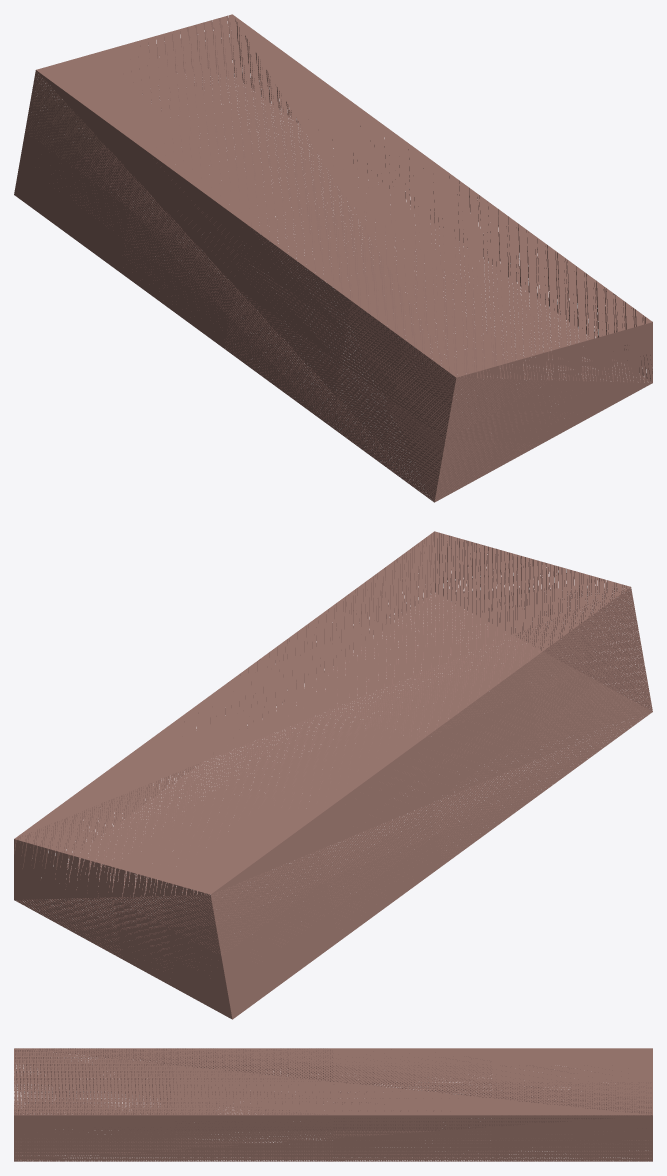
The model's file is SW_ENV_EL_TrackBase_Walkway_Side_5m_Collision.fbx.
The picture shows the model from 3 angles, top to bottom: view 1: azimuth 30°, elevation 25°; view 2: azimuth 150°, elevation 25°; view 3: azimuth 270°, elevation 25°; orthographic projection. The views are drawn at different scales.
Visible parts, largest first — view 1: SW_ENV_EL_TrackBase_Walkway_Side_5m_Collision; view 2: SW_ENV_EL_TrackBase_Walkway_Side_5m_Collision; view 3: SW_ENV_EL_TrackBase_Walkway_Side_5m_Collision.
Part boxes in pixels (bbox=[...]): SW_ENV_EL_TrackBase_Walkway_Side_5m_Collision: bbox=[14, 14, 652, 502]; SW_ENV_EL_TrackBase_Walkway_Side_5m_Collision: bbox=[14, 531, 652, 1019]; SW_ENV_EL_TrackBase_Walkway_Side_5m_Collision: bbox=[14, 1048, 652, 1161].
Bounding box in the file's own units: 150 × 83.5 × 500.
